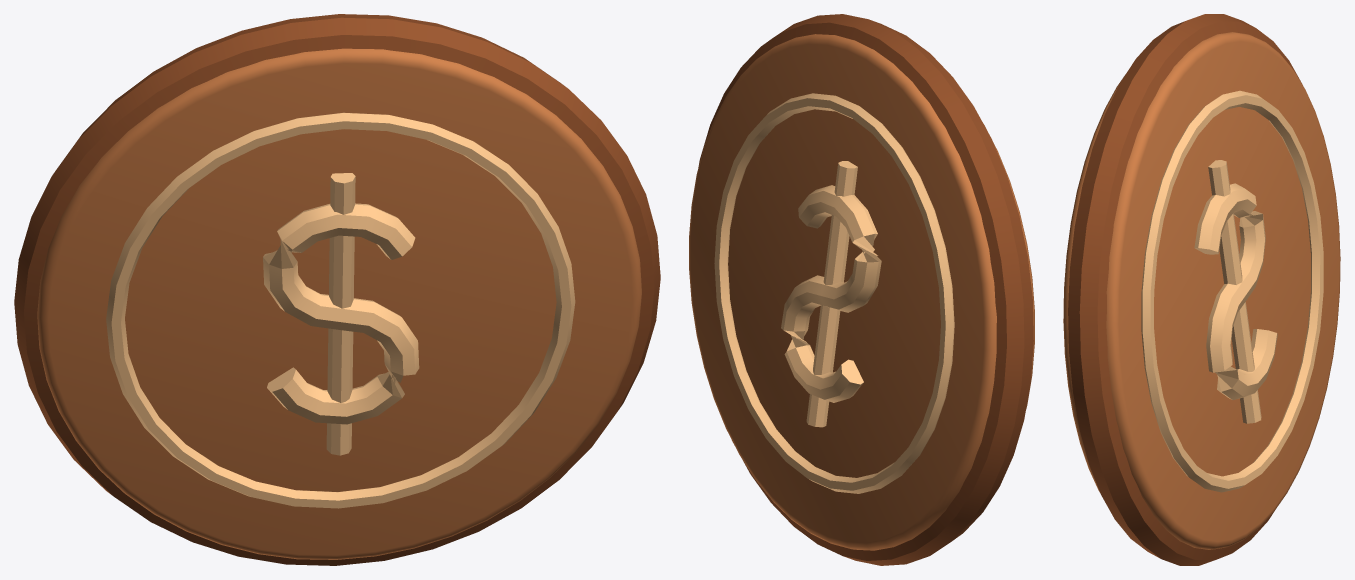
The model's file is CopperCoin.fbx.
The picture shows the model from 3 angles, left to right: view 1: azimuth 30°, elevation 25°; view 2: azimuth 150°, elevation 25°; view 3: azimuth 270°, elevation 25°; orthographic projection. The views are drawn at different scales.
Parts seen in each view (by area): view 1: CopperCoin_Body, CopperCoin_Neon, CopperCoin_Trim; view 2: CopperCoin_Body, CopperCoin_Neon, CopperCoin_Trim; view 3: CopperCoin_Body, CopperCoin_Neon, CopperCoin_Trim.
Part boxes in pixels (x1,y1,x2,y2): CopperCoin_Body: [37, 48, 641, 559]; CopperCoin_Neon: [106, 112, 575, 508]; CopperCoin_Trim: [14, 14, 660, 565]; CopperCoin_Body: [689, 34, 1034, 550]; CopperCoin_Neon: [714, 93, 954, 493]; CopperCoin_Trim: [698, 14, 1033, 565]; CopperCoin_Body: [1063, 32, 1340, 549]; CopperCoin_Neon: [1141, 90, 1323, 492]; CopperCoin_Trim: [1068, 14, 1301, 565].
Bounding box in the file's own units: 2.75 × 3 × 1.51.
